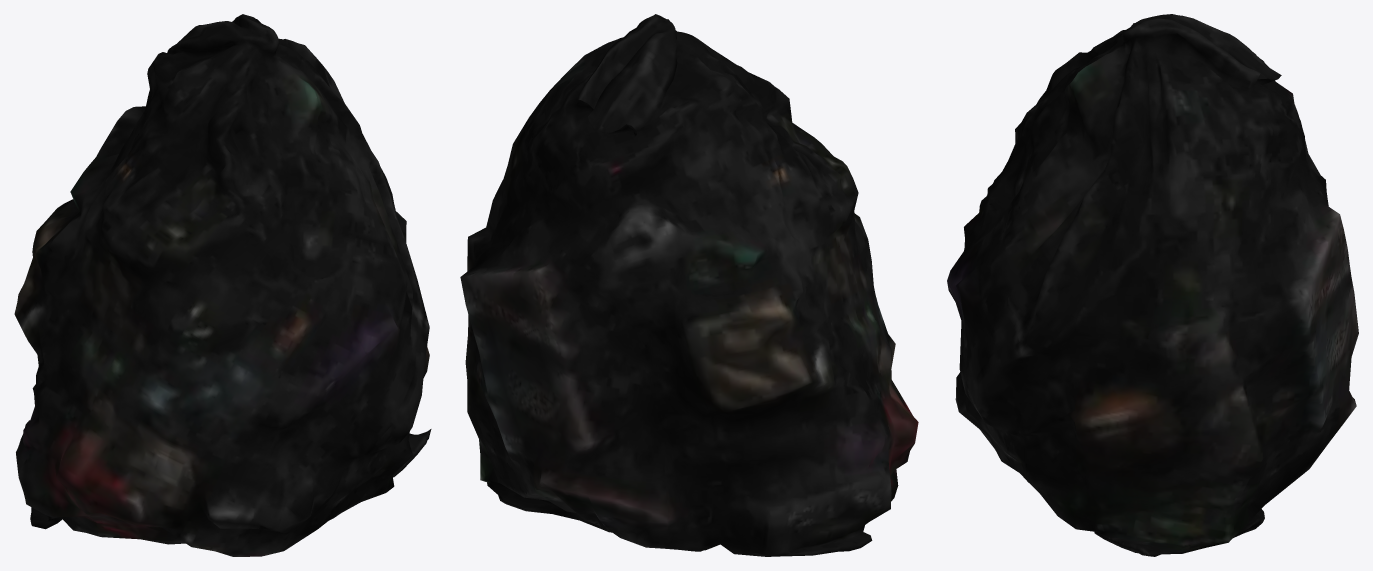
The model's file is trashbag.glb.
3 views of the same model, side by side, from view 1: azimuth 30°, elevation 25°; view 2: azimuth 150°, elevation 25°; view 3: azimuth 270°, elevation 25° (orthographic). The views are drawn at different scales.
Parts seen in each view (by area): view 1: trashbag; view 2: trashbag; view 3: trashbag.
Boxes of the visible parts, <box> form: trashbag: <box>14,14,431,556</box>; trashbag: <box>460,14,918,556</box>; trashbag: <box>947,14,1358,556</box>.
Bounding box in the file's own units: 0.528 × 0.575 × 0.4629.
Materials: 1 (1 with a texture image).
